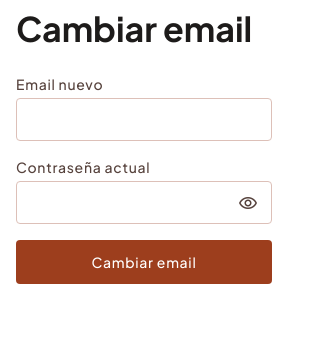
CambiarEmail — submit › muestra el error del backend sin avanzar
Type "nuevo@gmail.com" into the field labelled "Email nuevo". click: (144, 120)
box: 16,98 -> 272,141
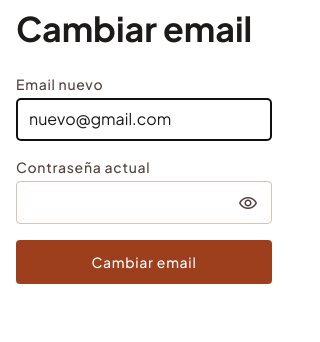
Type "mala" into the password field labelled "Contraseña actual". click: (144, 203)
box: 16,181 -> 272,224
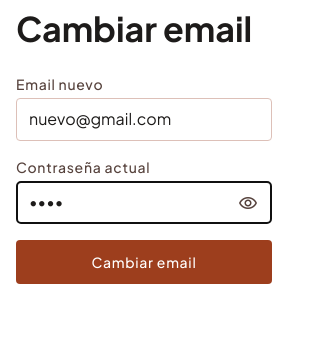
Click the button "Cambiar email". click: click(144, 262)
box: 16,240 -> 272,284
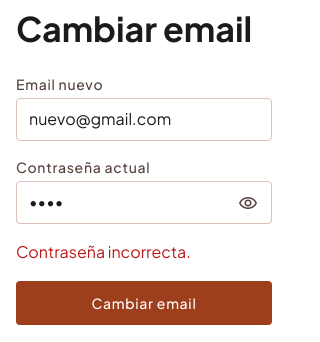
Check: the message reads "Contraseña incorrecta.", box 16,241 -> 191,262
